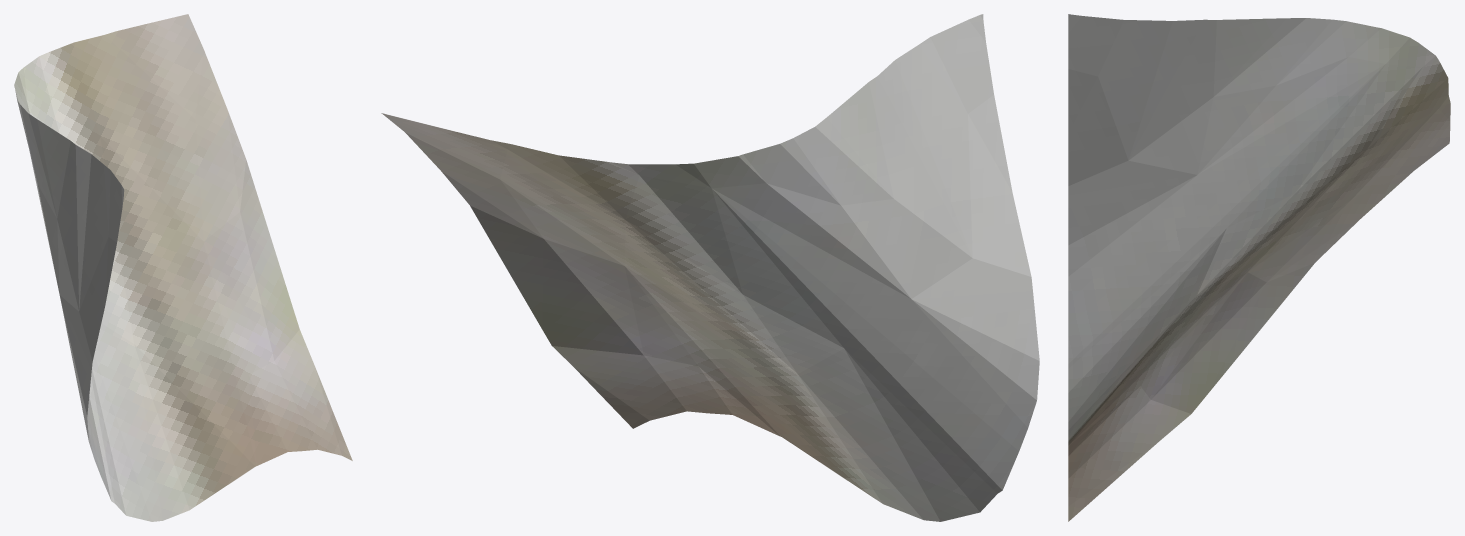
3 renders of one model, left to right at view 1: azimuth 30°, elevation 25°; view 2: azimuth 150°, elevation 25°; view 3: azimuth 270°, elevation 25°, orthographic. The views are drawn at different scales.
Bounding box in the file's own units: 15.56 × 19.04 × 16.73.
Materials: 1 (1 with a texture image).
